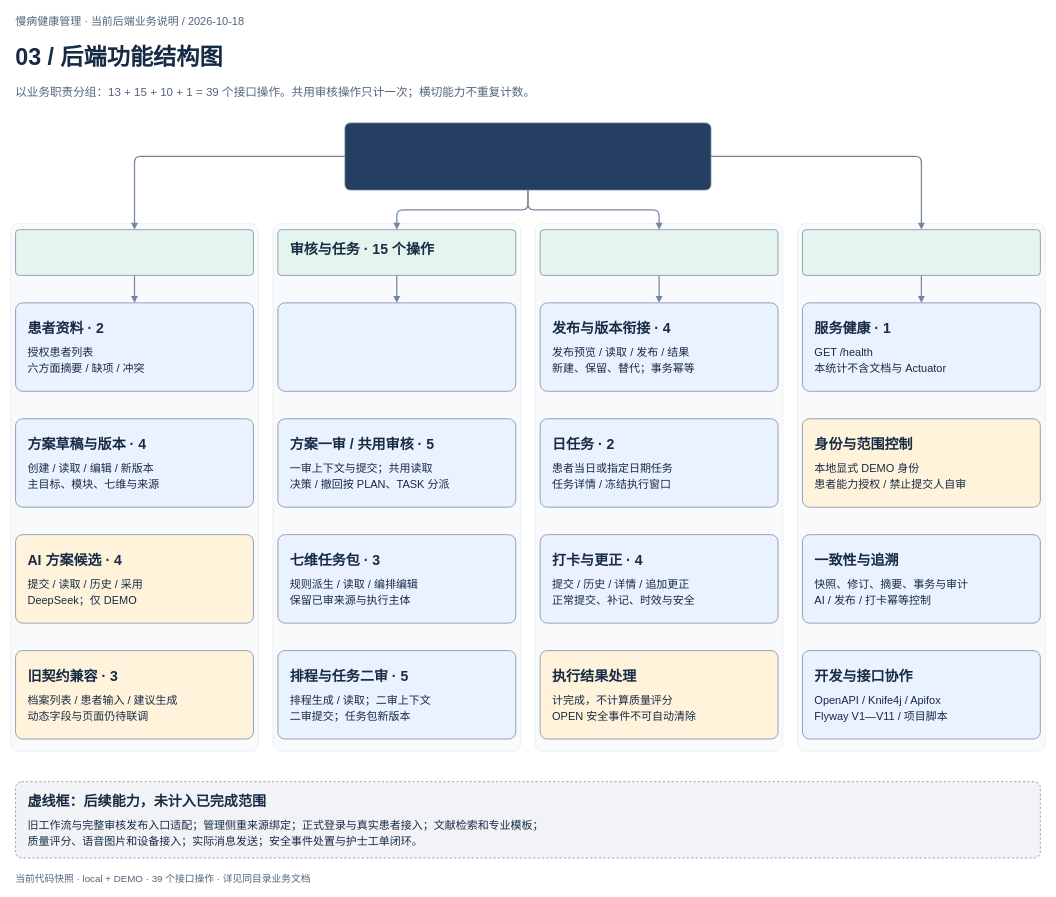
Image size: 1056x897. Some labels were removed from this diagram. Here are the shapes that lost their labels. From the top down, the centre of each, then its label:
point (527, 156): 慢病健康管理后端 当前原生业务链路 + 三个旧契约兼容入口
point (134, 252): 资料与方案 · 13 个操作
point (658, 252): 发布与反馈 · 10 个操作
point (921, 252): 基础运行 · 1 个操作
point (396, 346): 执行条件确认 · 2 主体与环境、必要来源核实 保留历史，内容变更后失效
